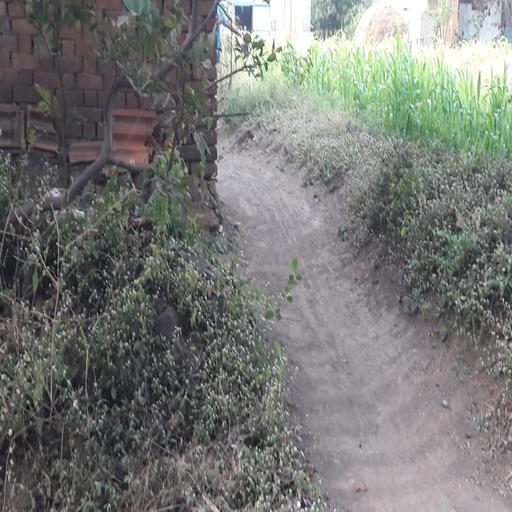vehicle_track: (220, 149, 512, 512)
